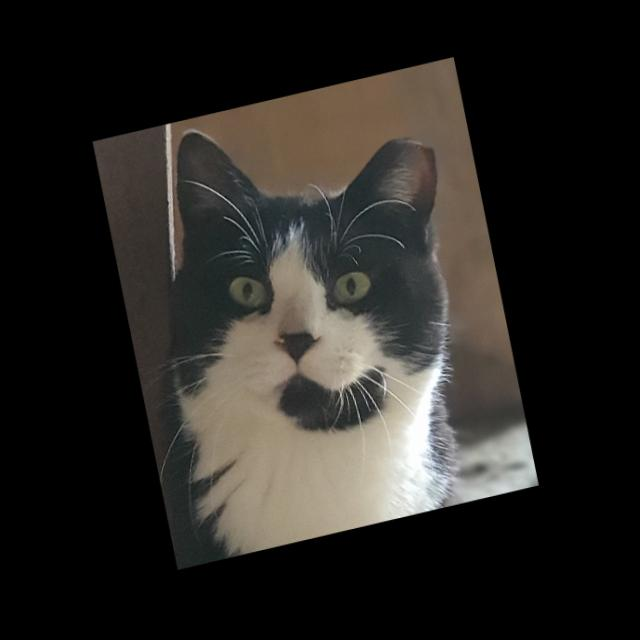animals: (132, 74, 499, 469)
